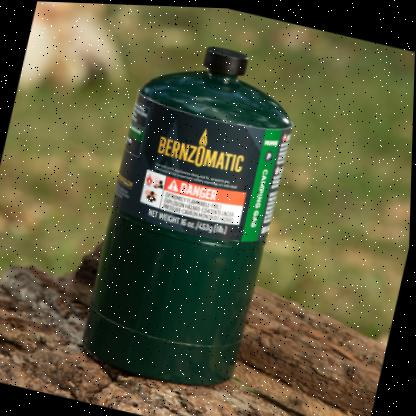gas-tank: (27, 1, 359, 414)
